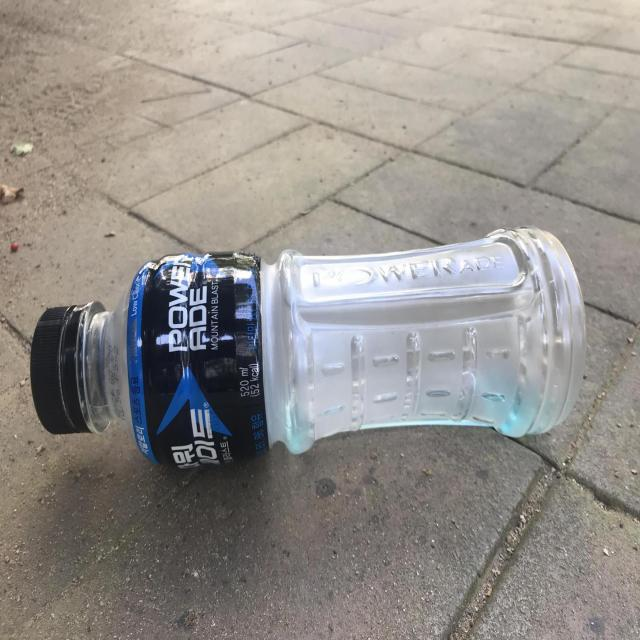plastic: (30, 227, 587, 469)
